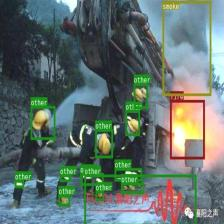fire: (170, 99, 204, 158)
smoke: (162, 0, 211, 96)
